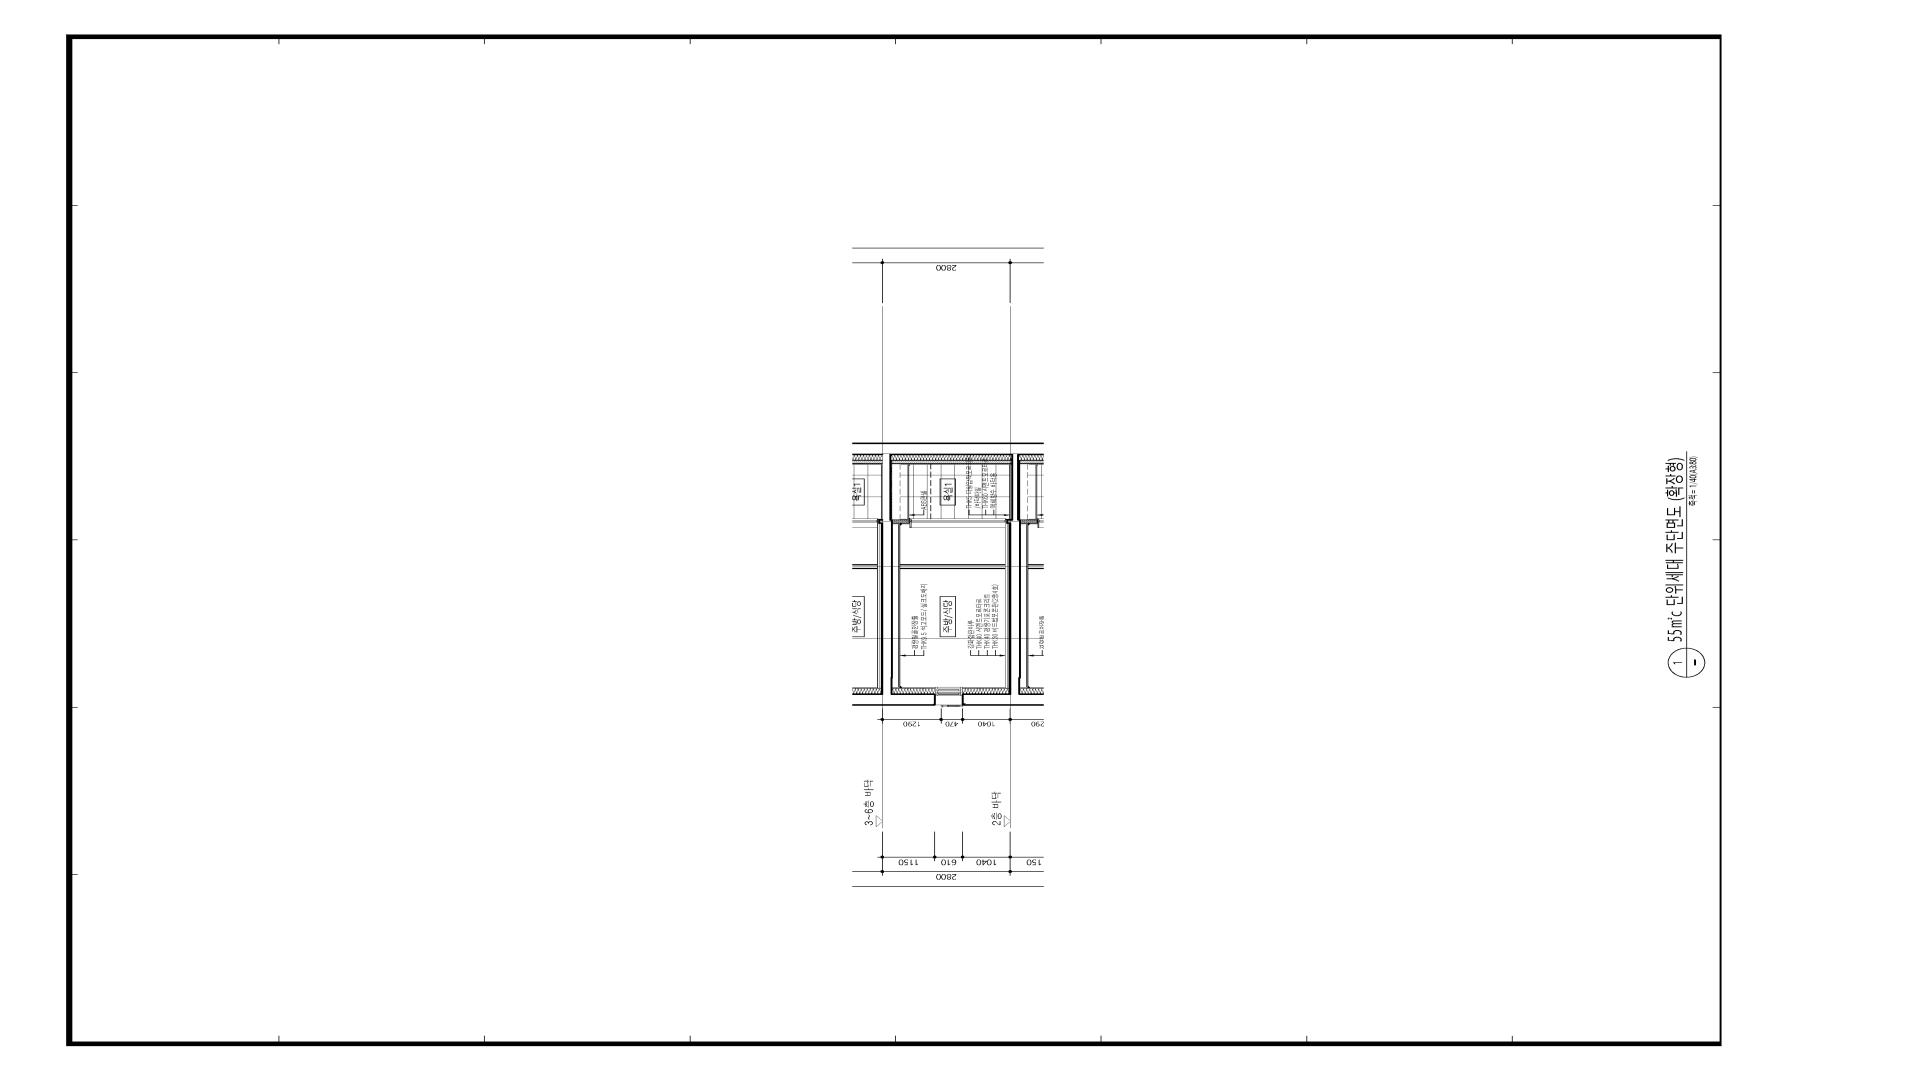door: (910, 518, 1006, 529)
wall: (881, 443, 1021, 705), (899, 564, 1006, 570), (891, 460, 1011, 464), (893, 520, 910, 524)
window: (935, 687, 963, 705)
